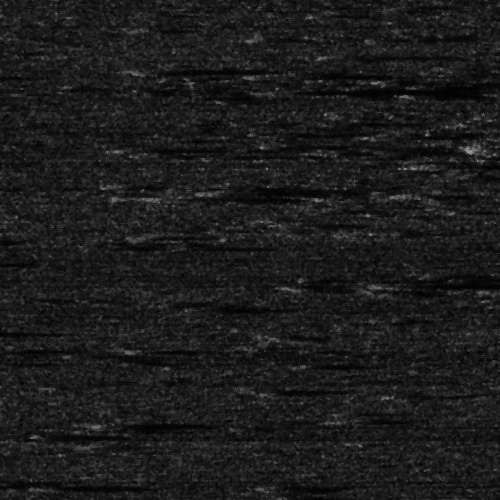object: (116, 186, 231, 207), (186, 178, 269, 199), (78, 417, 151, 428), (436, 142, 500, 153), (110, 65, 173, 74), (7, 428, 48, 439), (245, 70, 308, 77), (359, 280, 412, 287), (240, 88, 313, 93), (224, 387, 297, 392), (0, 483, 59, 488), (115, 145, 168, 150)
shadow: (227, 178, 407, 199), (174, 186, 347, 207), (276, 70, 430, 77), (142, 65, 256, 74), (115, 417, 199, 428), (277, 88, 461, 93), (28, 428, 108, 439), (386, 280, 500, 287), (0, 324, 58, 335), (27, 483, 135, 488), (142, 145, 226, 150), (260, 387, 322, 392), (0, 258, 36, 265)
